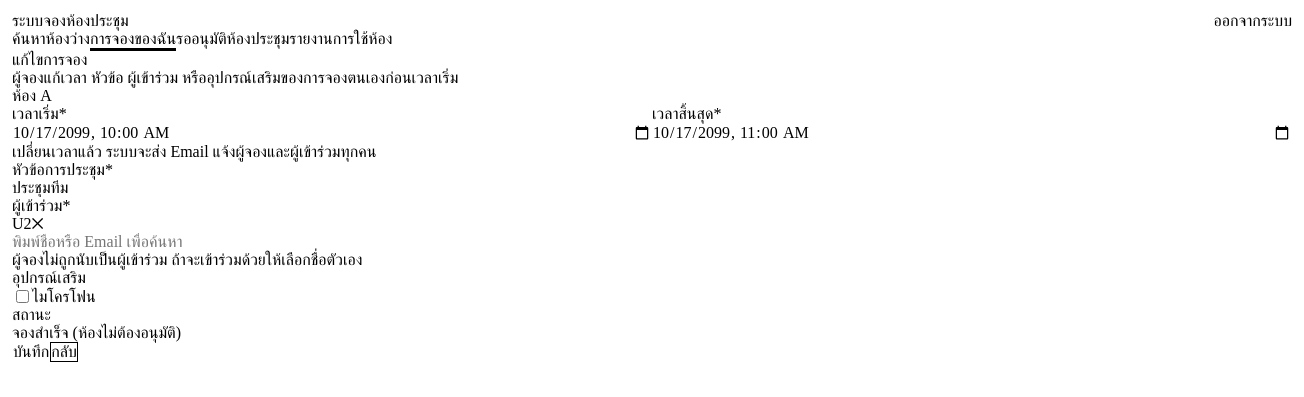
Test case: FE-mrr-004 edit booking page (UI-mrr-008) › error: a new time that is taken shows the reason and keeps the form
Expected: the field with test id "ui-mrr-008-ent-007-title" holds "ประชุมทีม", [12,179,1292,197]
Replace the text in the field with test id "ui-mrr-008-ent-007-start-at" with "2099-10-17T14:00" at (332, 133), box [12,123,652,143]
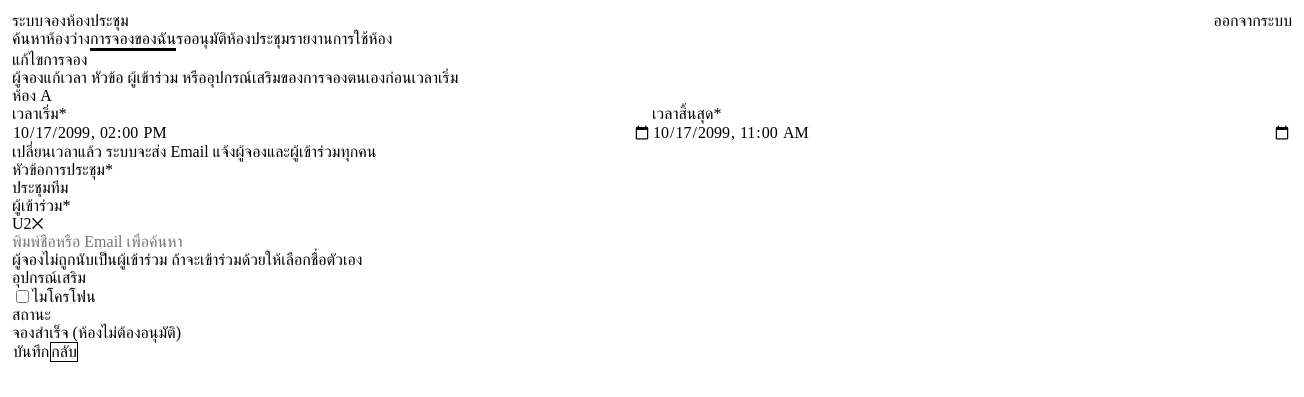
Replace the text in the field with test id "ui-mrr-008-ent-007-end-at" with "2099-10-17T15:00" at (972, 133), box [652,123,1292,143]
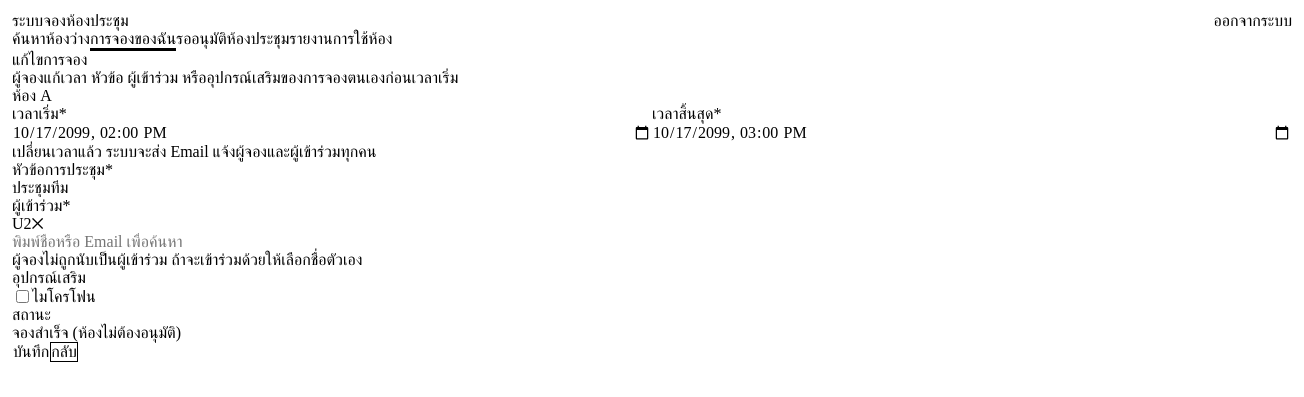
Click the button with test id "ui-mrr-008-save" at (31, 352), box [12,342,50,362]
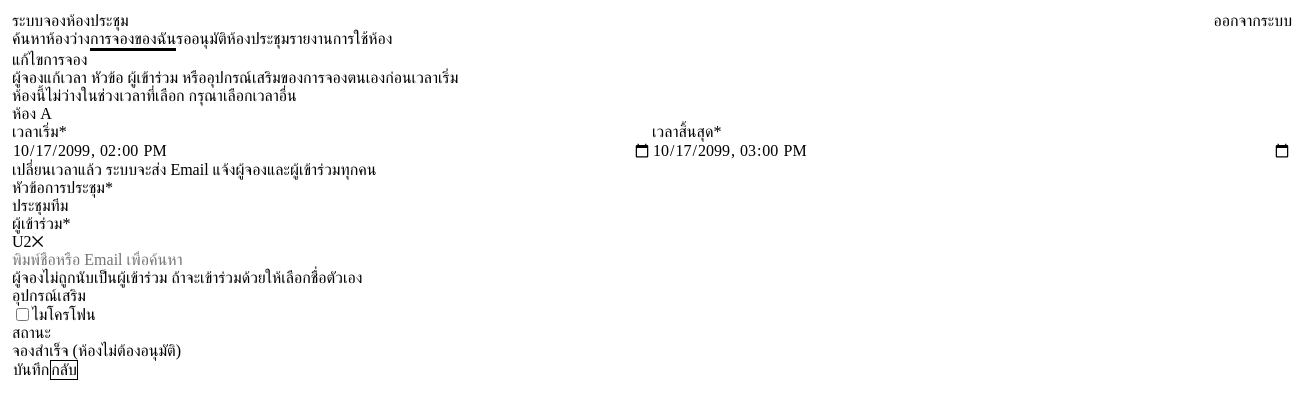
Expected: the button with test id "ui-mrr-008-save" is enabled, [12,360,50,380]
Expected: the message reads "ห้องนี้ไม่ว่างในช่วงเวลาที่เลือก กรุณาเลือกเวลาอื่น", [12,87,297,104]
